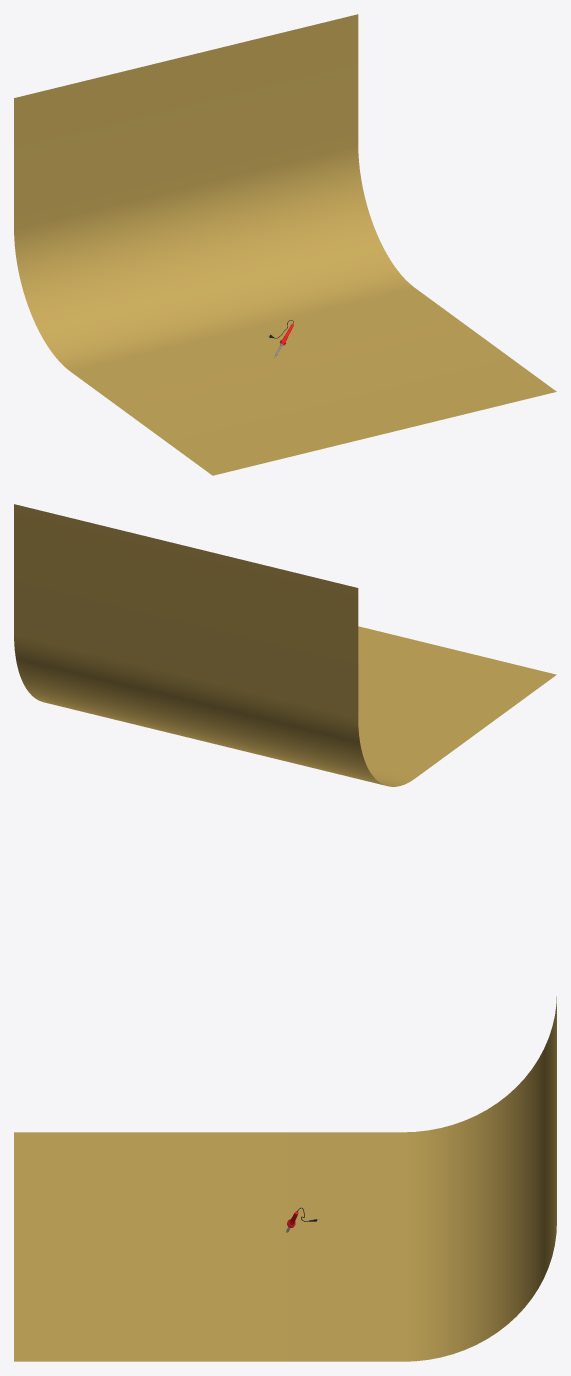
Rendered from solder_rod_11th_Aug.fbx.
The picture shows the model from 3 angles, top to bottom: view 1: azimuth 30°, elevation 25°; view 2: azimuth 150°, elevation 25°; view 3: azimuth 270°, elevation 25°; orthographic projection. The views are drawn at different scales.
Parts seen in each view (by area): view 1: Plane; view 2: Plane; view 3: Plane.
Boxes of the visible parts, bbox=[...] form: Plane: bbox=[14, 14, 556, 475]; Plane: bbox=[14, 504, 556, 786]; Plane: bbox=[14, 996, 556, 1361].
Bounding box in the file's own units: 3142 × 2025 × 3142.
